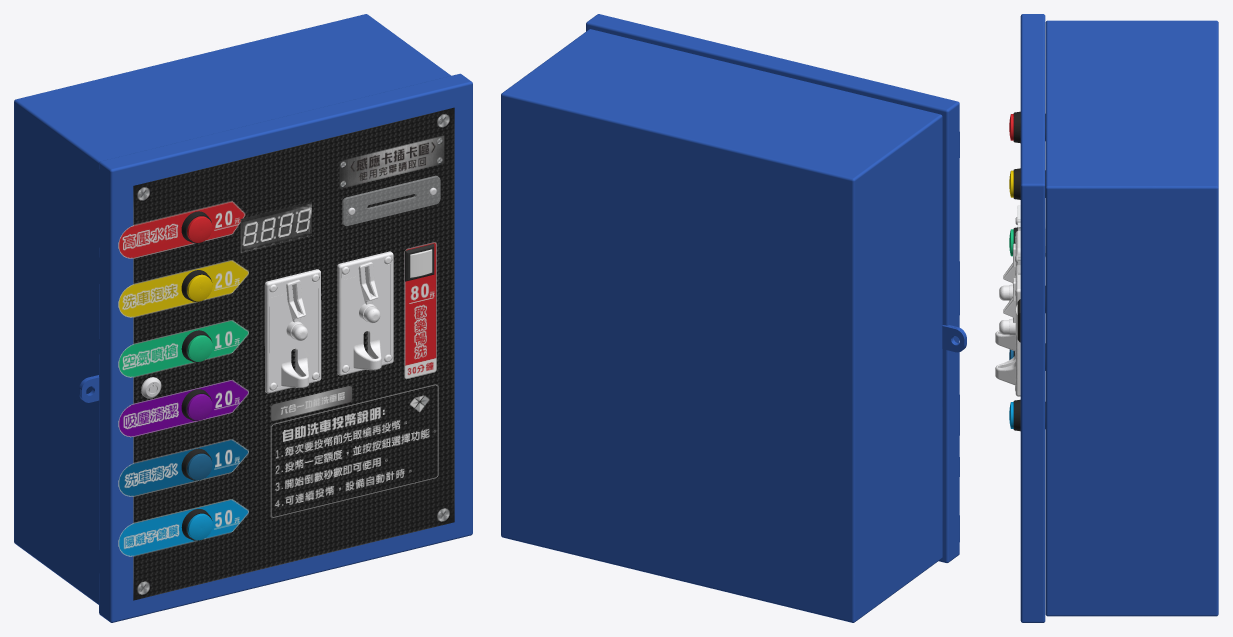
Rendered from shinox-machine.web.glb.
The picture shows the model from 3 angles, left to right: view 1: azimuth 30°, elevation 25°; view 2: azimuth 150°, elevation 25°; view 3: azimuth 270°, elevation 25°; orthographic projection. The views are drawn at different scales.
Visible parts, largest first — view 1: FrontSticker, Paint Metallic Jet Black, Aluminum Dots 1 #7, Aluminum Dots 1 #5, Glass Dense White, Display, Paint Gloss Black; view 2: Paint Metallic Jet Black; view 3: Paint Metallic Jet Black, Aluminum Dots 1 #5, Paint Gloss Black, Aluminum Dots 1 #7.
Part boxes in pixels (x1,y1,x2,y2): FrontSticker: [118, 107, 454, 600]; Paint Metallic Jet Black: [14, 14, 472, 622]; Aluminum Dots 1 #7: [264, 269, 321, 393]; Aluminum Dots 1 #5: [337, 251, 393, 375]; Glass Dense White: [342, 175, 440, 226]; Display: [240, 201, 311, 252]; Paint Gloss Black: [181, 211, 212, 540]; Paint Metallic Jet Black: [501, 14, 966, 622]; Paint Metallic Jet Black: [1020, 14, 1218, 622]; Aluminum Dots 1 #5: [995, 265, 1020, 396]; Paint Gloss Black: [1013, 111, 1045, 431]; Aluminum Dots 1 #7: [995, 231, 1020, 354].
Size of the model in its own units: 3.51 by 4 by 1.84.
15 materials, 2 textured.
